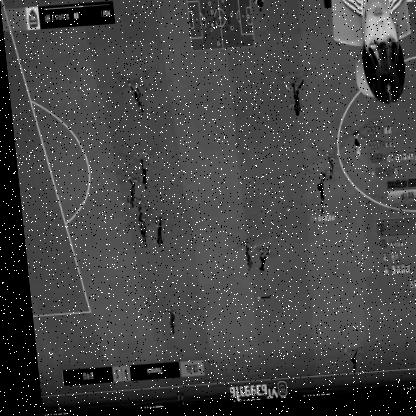streamer: (331, 0, 416, 113)
